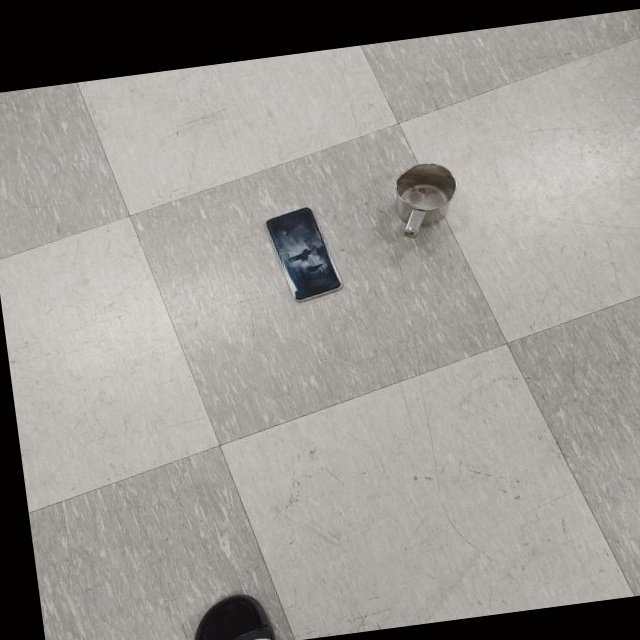cup: (391, 159, 463, 239)
phone: (261, 200, 346, 311)
